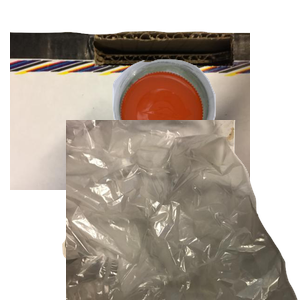cardboard: (10, 29, 250, 209)
glass: (60, 120, 300, 300)
plastic: (110, 57, 300, 205)
trash: (66, 120, 300, 300)
